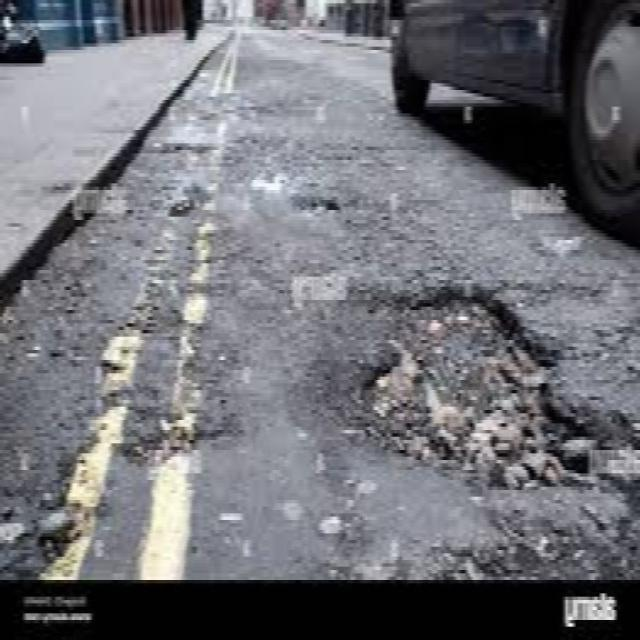Pothole: (339, 275, 636, 504), (124, 384, 223, 472), (129, 130, 223, 161), (154, 175, 218, 218), (279, 188, 350, 218)
